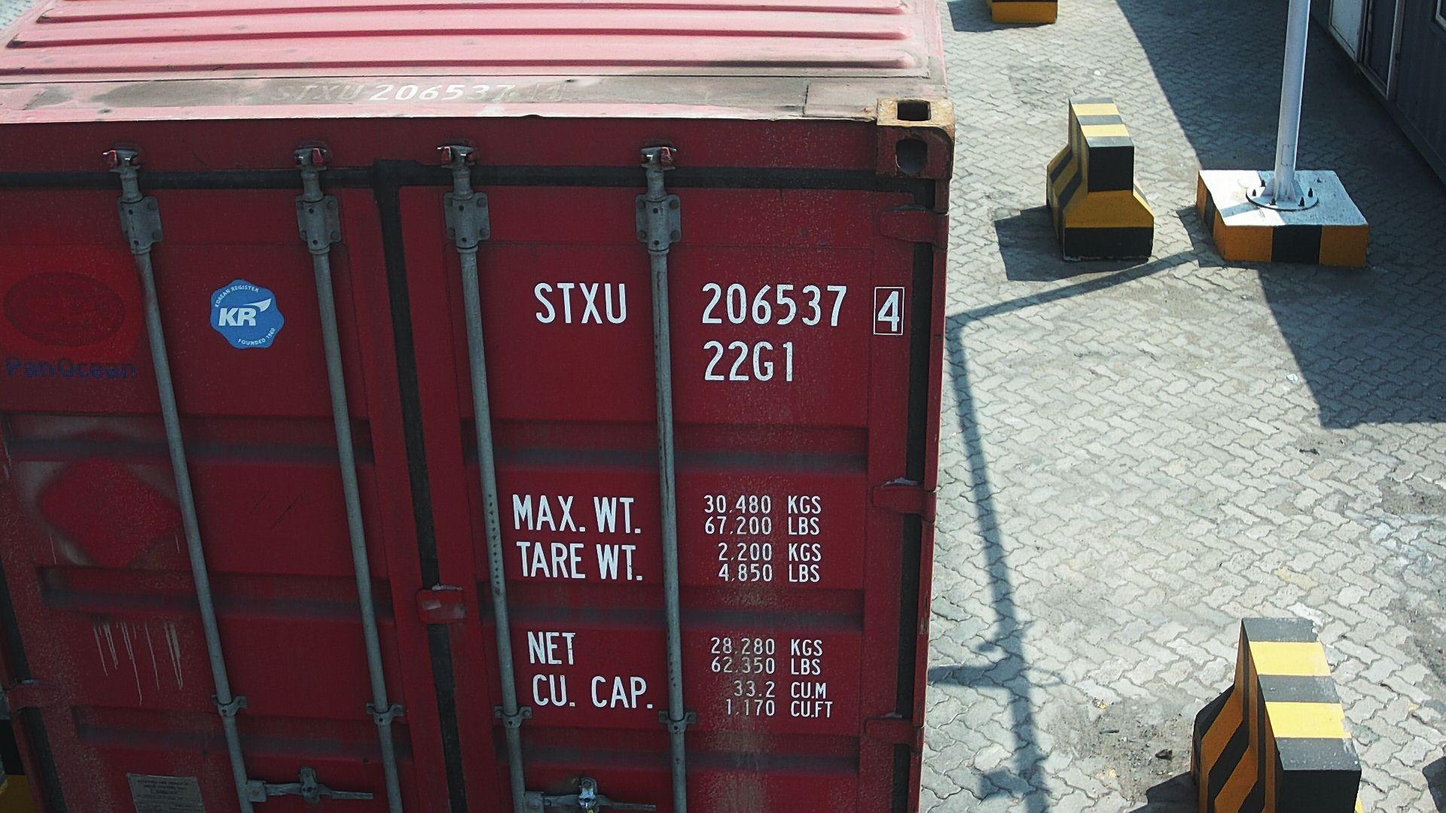container-numbers: (531, 277, 911, 338), (700, 336, 800, 385)
